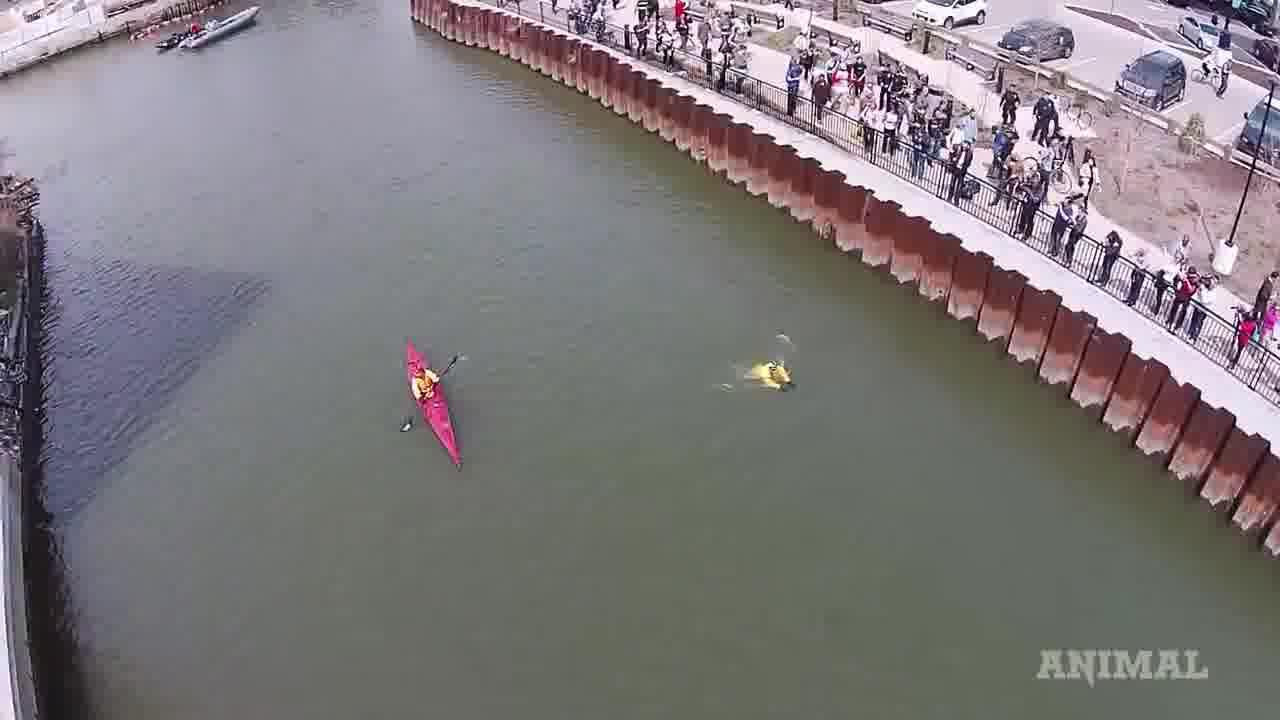swimmer: (740, 346, 804, 412)
